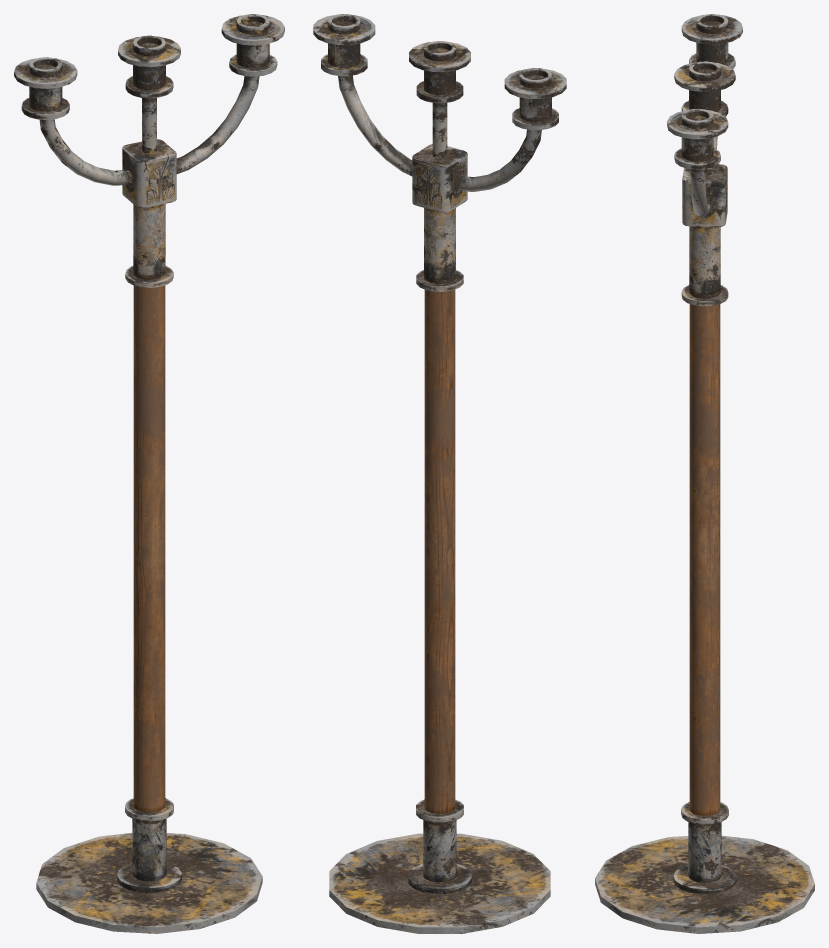
The model's file is candle_holder_low.glb.
3 renders of one model, left to right at view 1: azimuth 30°, elevation 25°; view 2: azimuth 150°, elevation 25°; view 3: azimuth 270°, elevation 25°, orthographic. The views are drawn at different scales.
Parts seen in each view (by area): view 1: Cylinder.023; view 2: Cylinder.023; view 3: Cylinder.023.
Part boxes in pixels (x1,y1,x2,y2): Cylinder.023: [14, 14, 284, 933]; Cylinder.023: [313, 14, 566, 933]; Cylinder.023: [595, 14, 814, 933].
Bounding box in the file's own units: 58.01 × 184 × 44.64.
Materials: 1 (1 with a texture image).
